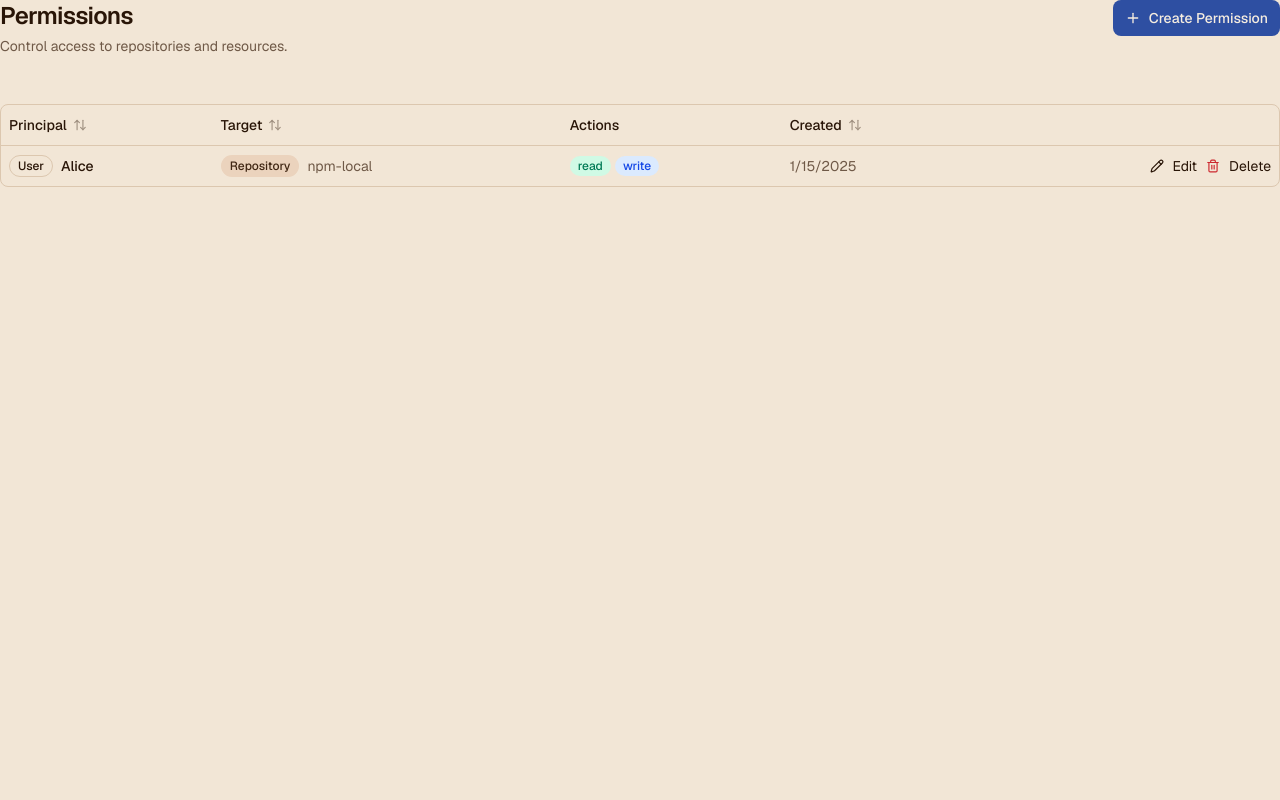
it: PermissionsPage › target type switching › default target type is repository, showing a Select dropdown with repo label
Check: the text "Alice" is shown, box [61,156,94,176]
Click the button "Create Permission".
click(1196, 18)  # box [1113,0,1279,36]
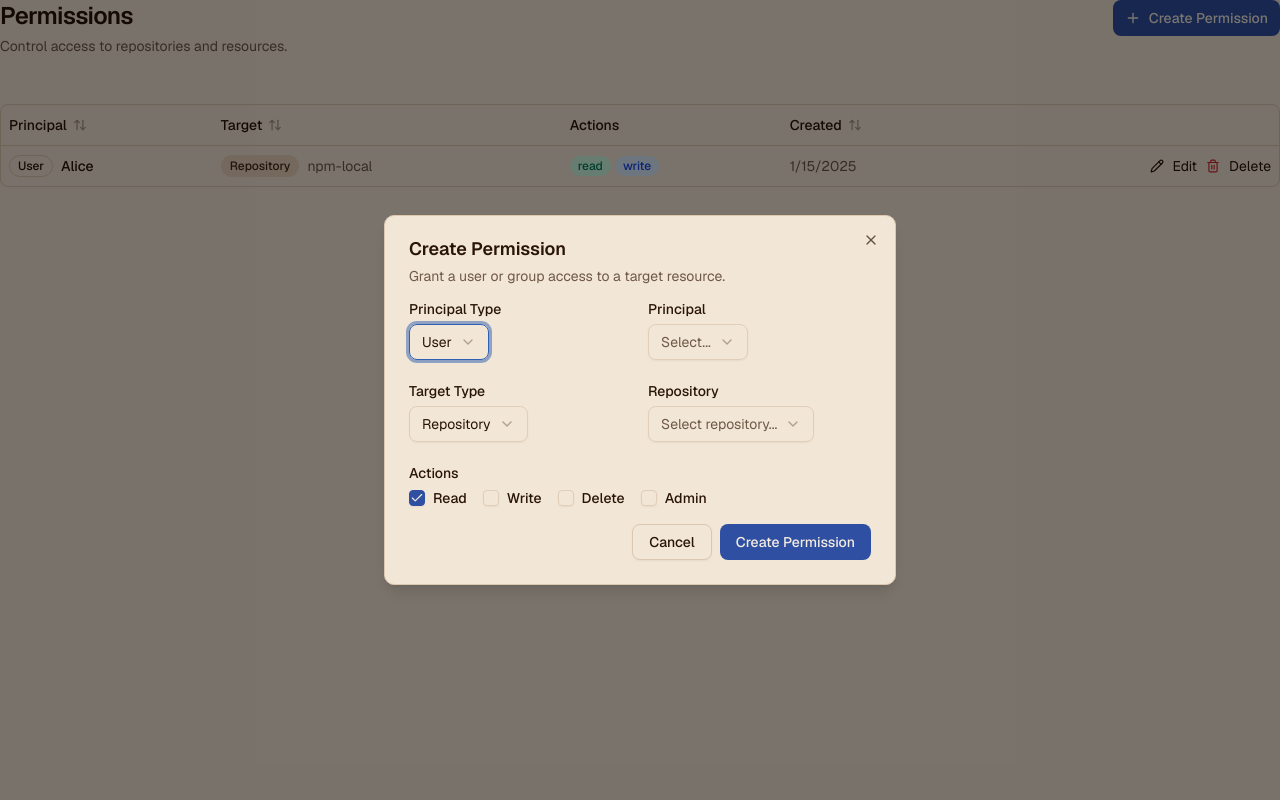
Check: the text "Grant a user or group access to a target resource." is shown, box [409,267,725,285]
Check: the text "Repository" is shown, box [648,382,719,400]
